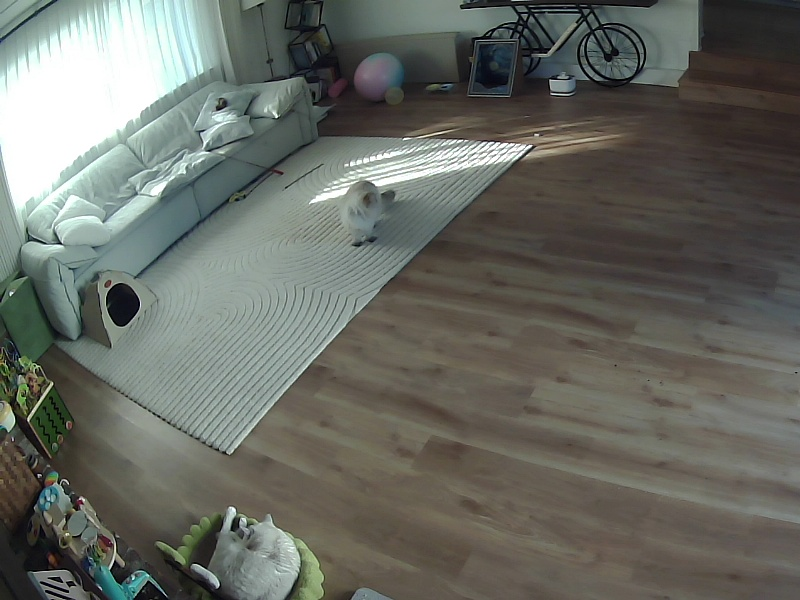Qb-2: (190, 507, 300, 599)
Qbo-2: (338, 180, 394, 245)
